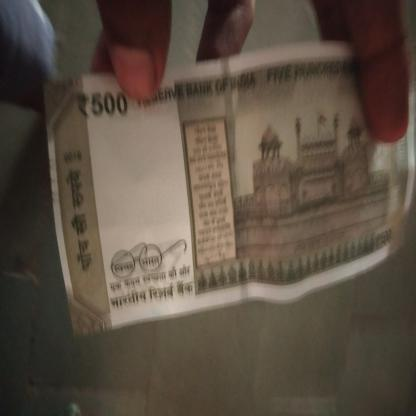New500Back: (76, 55, 416, 292)
